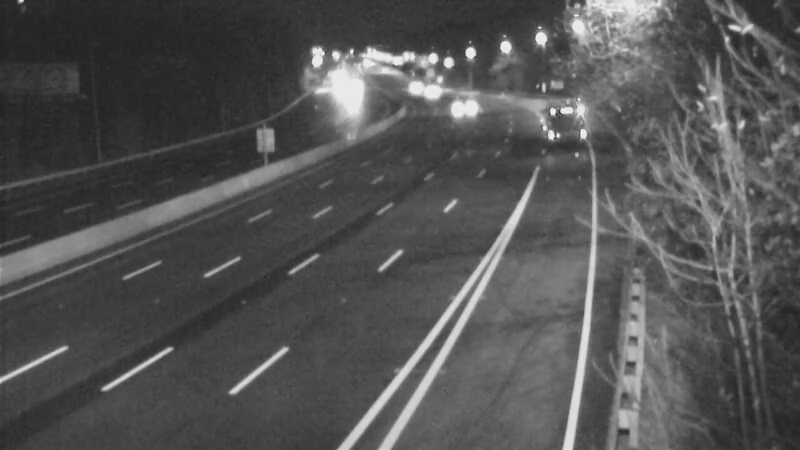vehicle: (384, 61, 434, 111), (405, 64, 455, 114), (538, 88, 588, 138), (440, 79, 490, 129), (317, 72, 367, 122)
